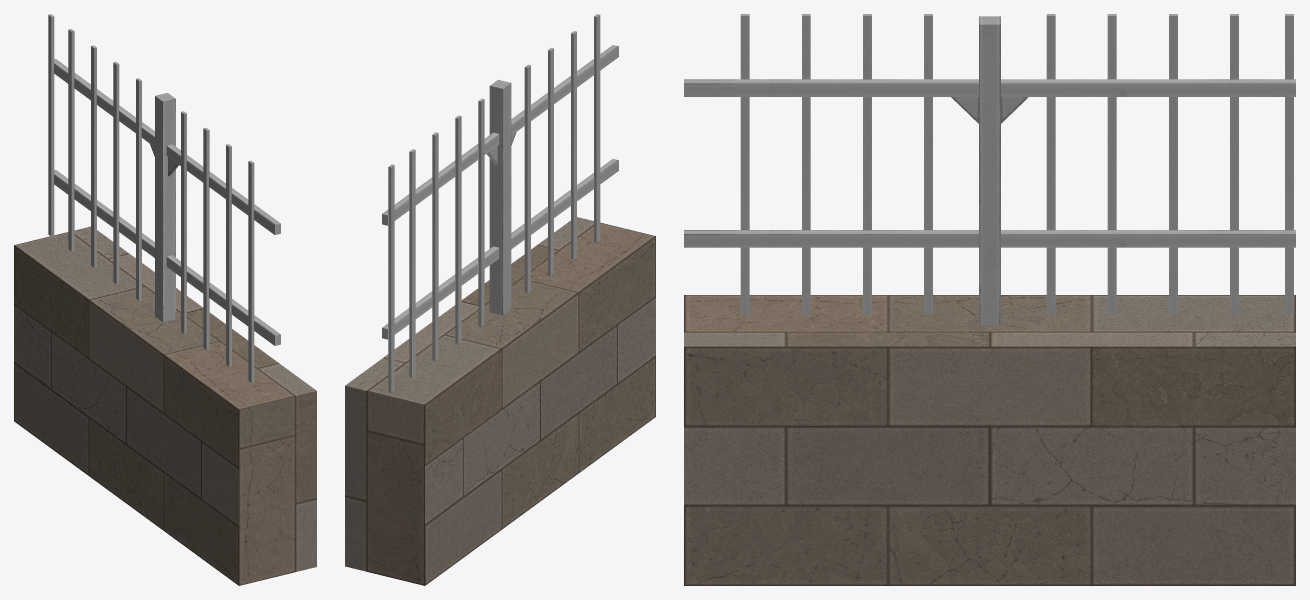
File: MB_Fence_A_2m.fbx
3 renders of one model, left to right at view 1: azimuth 30°, elevation 25°; view 2: azimuth 150°, elevation 25°; view 3: azimuth 270°, elevation 25°, orthographic. The views are drawn at different scales.
Visible parts, largest first — view 1: MB_Fence_A_2m; view 2: MB_Fence_A_2m; view 3: MB_Fence_A_2m.
Part boxes in pixels (x1,y1,x2,y2): MB_Fence_A_2m: (14,14,316,585); MB_Fence_A_2m: (345,14,655,585); MB_Fence_A_2m: (684,14,1295,585).
Bounding box in the file's own units: 40 × 196 × 200.
